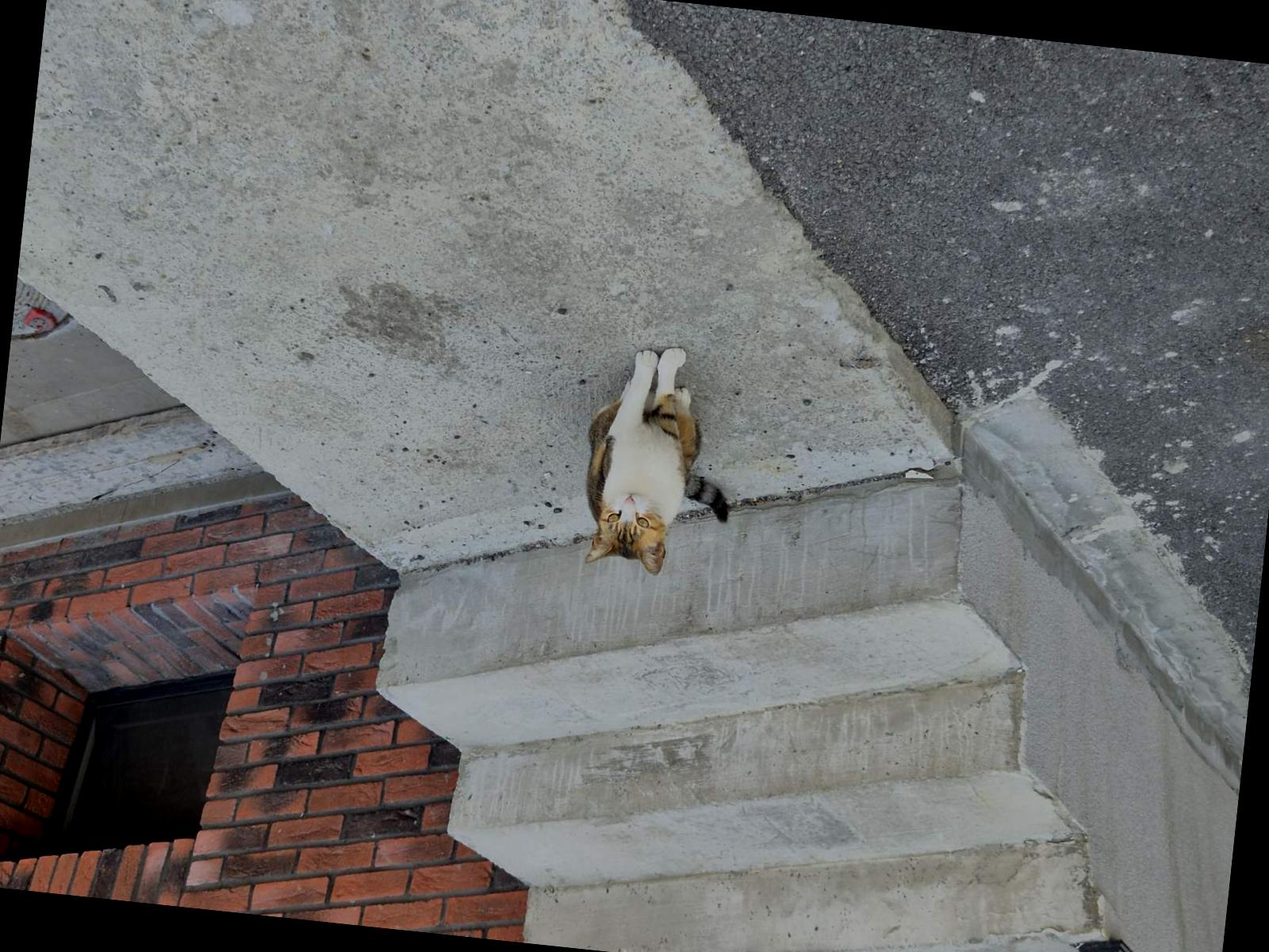macka: (575, 338, 745, 584)
